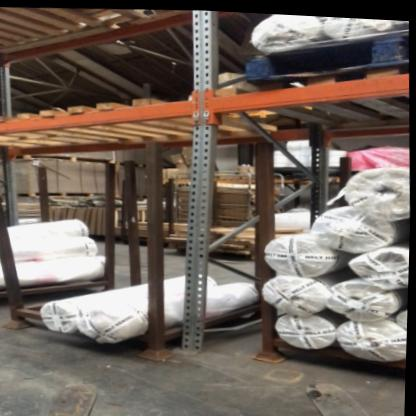vertical_damage: (176, 321, 222, 359)
